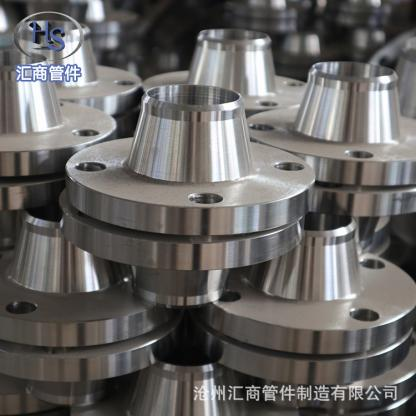FOD: (60, 80, 320, 239)
